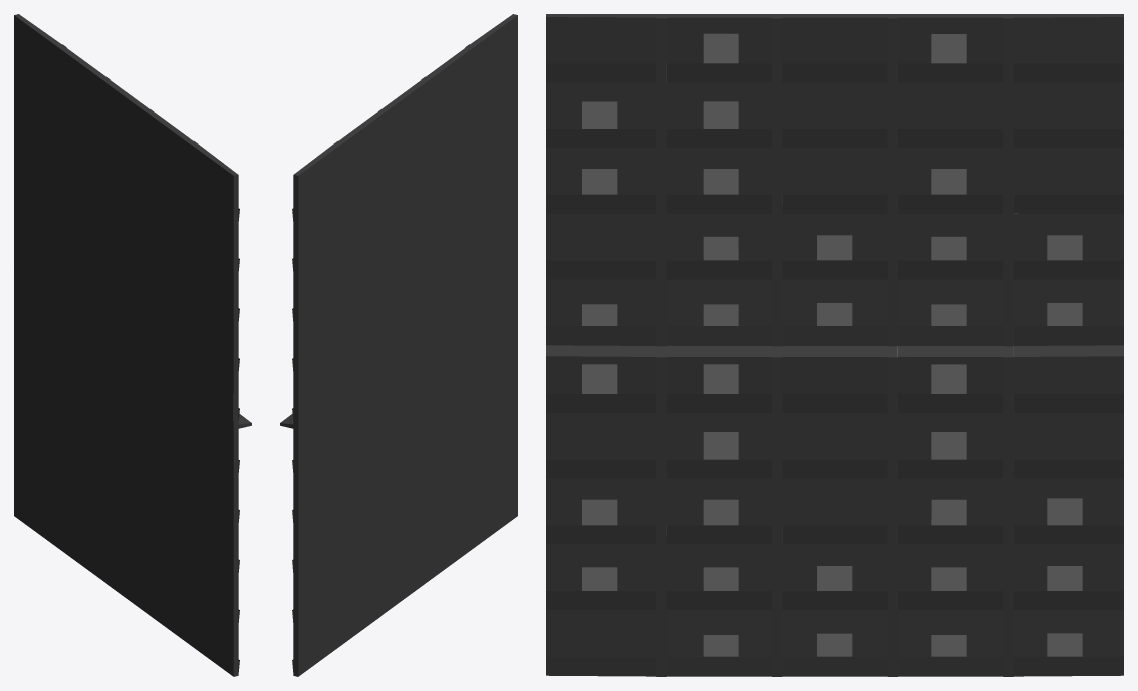
File: BatePonto3.fbx
3 renders of one model, left to right at view 1: azimuth 30°, elevation 25°; view 2: azimuth 150°, elevation 25°; view 3: azimuth 270°, elevation 25°, orthographic. The views are drawn at different scales.
Parts seen in each view (by area): view 1: Plane.006; view 2: Plane.006; view 3: Plane.006.
Boxes of the visible parts, x1,y1,x2,y2 form: Plane.006: (14, 14, 251, 676); Plane.006: (280, 14, 517, 676); Plane.006: (546, 14, 1123, 676).
Size of the model in its own units: 10.02 by 241 by 191.
